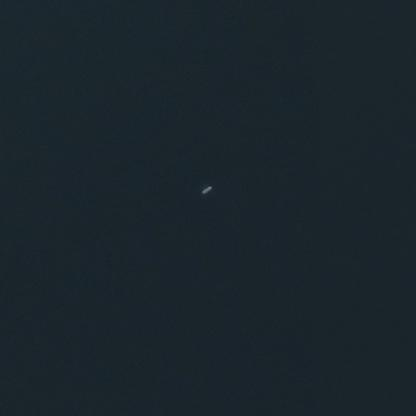ship: (194, 183, 216, 196)
